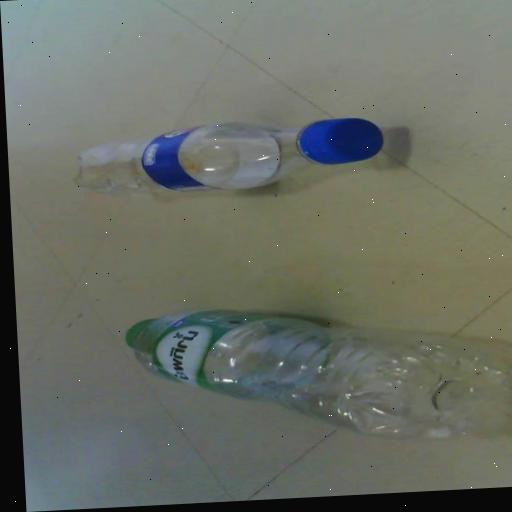bottle: (124, 295, 512, 457), (75, 111, 389, 197)
